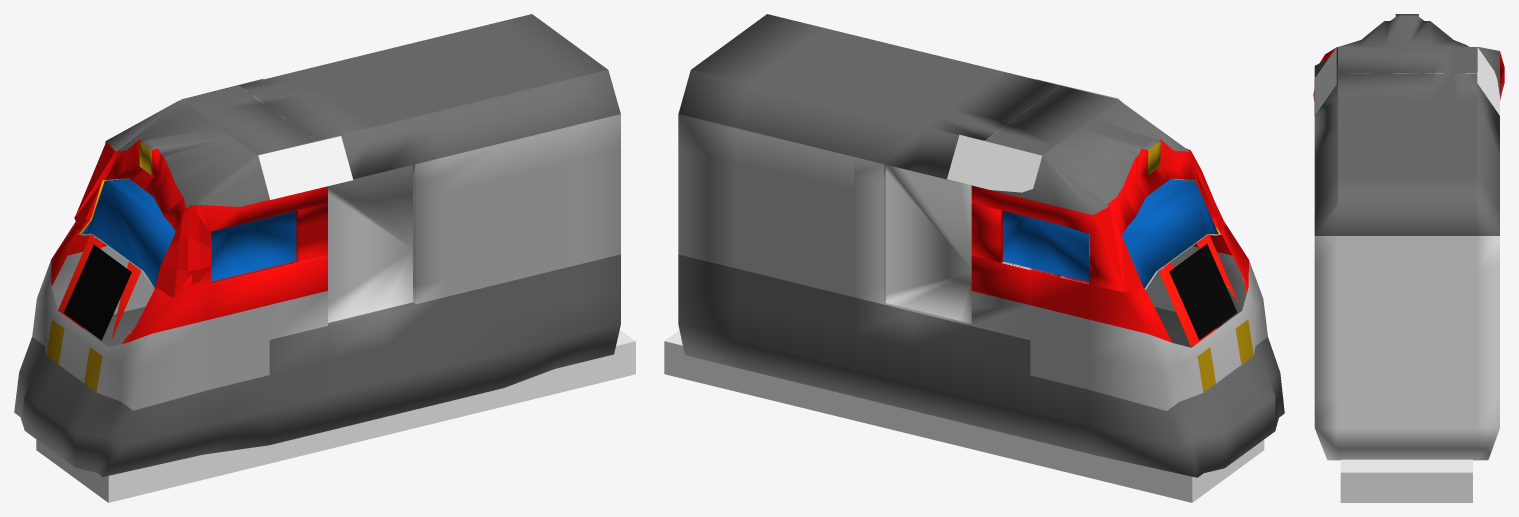
The model's file is rjd_train.fbx.
3 renders of one model, left to right at view 1: azimuth 30°, elevation 25°; view 2: azimuth 150°, elevation 25°; view 3: azimuth 270°, elevation 25°, orthographic. The views are drawn at different scales.
Parts seen in each view (by area): view 1: Plane.001; view 2: Plane.001; view 3: Plane.001.
Boxes of the visible parts, bbox=[...] form: Plane.001: bbox=[14, 14, 635, 502]; Plane.001: bbox=[664, 14, 1284, 502]; Plane.001: bbox=[1313, 14, 1504, 502].
Bounding box in the file's own units: 1668 × 910 × 549.
7 materials, 2 textured.
